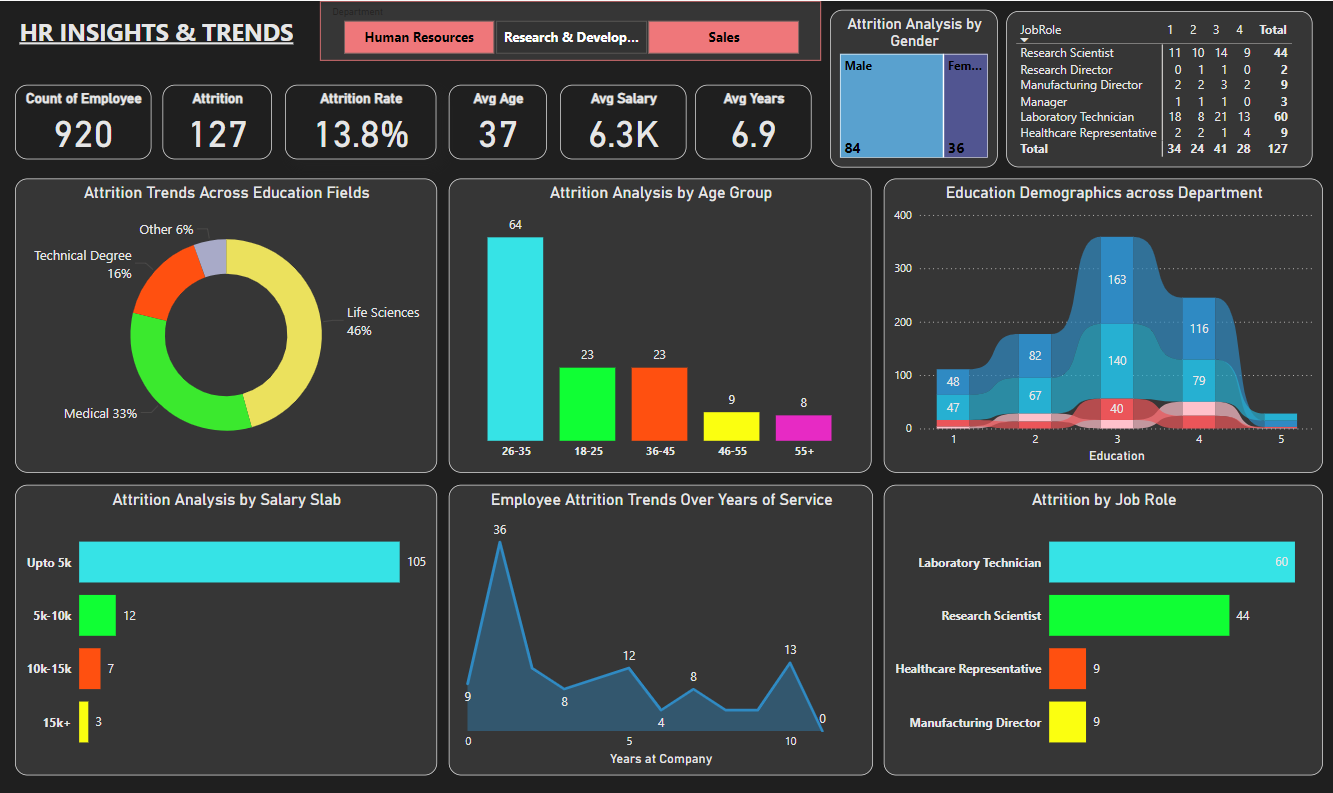

Layout of this report page (visuals, bound fields, positions):
{"tool":"powerbi","page":{"name":"Page 1","canvas":[1500,900],"ordinal":0},"visuals":[{"type":"card","title":"Count of Employee","fields":{"Values":["CountNonNull(HR_Analytics.EmpID)"]},"box":[16.8,93.6,153.7,83.8],"z":0},{"type":"card","title":"Attrition","fields":{"Values":["Sum(HR_Analytics.AttritionCount)"]},"box":[183,93.6,122.9,83.8],"z":1000},{"type":"card","title":"Attrition Rate","fields":{"Values":["HR_Analytics.AttritionRate"]},"box":[321.3,93.6,170.4,83.8],"z":2000},{"type":"card","title":"Avg Age","fields":{"Values":["Avg(HR_Analytics.Age)"]},"box":[505.7,93.6,110.4,83.8],"z":3000},{"type":"card","title":"Avg Salary","fields":{"Values":["Avg(HR_Analytics.MonthlyIncome)"]},"box":[630,93.6,142.5,83.8],"z":4000},{"type":"card","title":"Avg Years","fields":{"Values":["Avg(HR_Analytics.YearsAtCompany)"]},"box":[782.3,93.6,131.3,83.8],"z":5000},{"type":"pieChart","title":"Attrition Trends Across Education Fields","fields":{"Category":["HR_Analytics.EducationField"],"Y":["Sum(HR_Analytics.AttritionCount)"]},"box":[16.8,199.8,474.9,331.1],"z":6000},{"type":"columnChart","title":"Attrition Analysis by Age Group","fields":{"Category":["HR_Analytics.AgeGroup"],"Y":["Sum(HR_Analytics.AttritionCount)"]},"box":[505.7,199.8,476.3,331.1],"z":7000},{"type":"pivotTable","fields":{"Rows":["HR_Analytics.JobRole"],"Columns":["HR_Analytics.JobSatisfaction"],"Values":["Sum(HR_Analytics.AttritionCount)"]},"box":[1132.9,11.2,345,176],"z":8000},{"type":"barChart","title":"Attrition Analysis by Salary Slab","fields":{"Category":["HR_Analytics.SalarySlab"],"Y":["Sum(HR_Analytics.AttritionCount)"]},"box":[16.8,544.8,474.9,326.9],"z":9000},{"type":"barChart","title":"Attrition by Job Role","fields":{"Category":["HR_Analytics.JobRole"],"Y":["Sum(HR_Analytics.AttritionCount)"]},"box":[994.6,544.8,494.5,326.9],"z":10000},{"type":"areaChart","title":"Employee Attrition Trends Over Years of Service","fields":{"Category":["HR_Analytics.YearsAtCompany"],"Y":["Sum(HR_Analytics.AttritionCount)"]},"box":[505.7,544.8,477.7,326.9],"z":11000},{"type":"treemap","title":"Attrition Analysis by Gender","fields":{"Group":["HR_Analytics.Gender"],"Values":["Sum(HR_Analytics.AttritionCount)"]},"box":[934.5,9.8,188.6,177.4],"z":12000},{"type":"slicer","fields":{"Values":["HR_Analytics.Department"]},"box":[360.4,0,564.4,67.1],"z":13000},{"type":"textbox","box":[16.6,11.8,334,55.7],"z":14000},{"type":"ribbonChart","title":"Education Demographics across Department ","fields":{"Y":["CountNonNull(HR_Analytics.Department)"],"Category":["HR_Analytics.Education"],"Series":["HR_Analytics.EducationField"]},"box":[994.6,199.8,494.5,331.1],"z":15000}]}

Visuals, with their boxes in screenshot pixels (x1, y1, x2, y2), scaled from the page's 1500x900 canvas onto the 1333x793 screenshot:
"Count of Employee" card: rect(15, 82, 152, 156)
"Attrition" card: rect(163, 82, 272, 156)
"Attrition Rate" card: rect(286, 82, 437, 156)
"Avg Age" card: rect(449, 82, 548, 156)
"Avg Salary" card: rect(560, 82, 686, 156)
"Avg Years" card: rect(695, 82, 812, 156)
"Attrition Trends Across Education Fields" pieChart: rect(15, 176, 437, 468)
"Attrition Analysis by Age Group" columnChart: rect(449, 176, 873, 468)
pivotTable - HR_Analytics.JobRole x HR_Analytics.JobSatisfaction: rect(1007, 10, 1313, 165)
"Attrition Analysis by Salary Slab" barChart: rect(15, 480, 437, 768)
"Attrition by Job Role" barChart: rect(884, 480, 1323, 768)
"Employee Attrition Trends Over Years of Service" areaChart: rect(449, 480, 874, 768)
"Attrition Analysis by Gender" treemap: rect(830, 9, 998, 165)
slicer - HR_Analytics.Department: rect(320, 0, 822, 59)
textbox: rect(15, 10, 312, 59)
"Education Demographics across Department " ribbonChart: rect(884, 176, 1323, 468)
